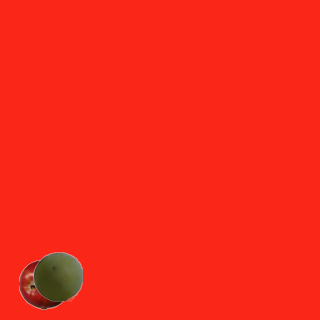Apple Braeburn: (18, 259, 68, 309)
Grape White 4: (32, 251, 82, 301)
